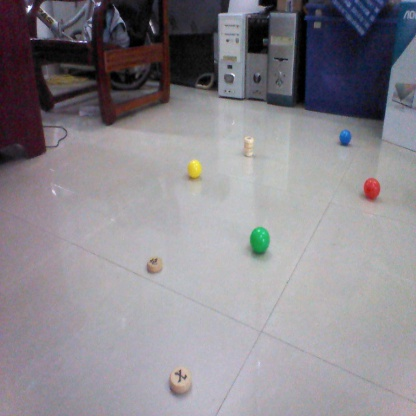ball: (247, 226, 276, 257), (357, 177, 382, 200), (186, 158, 206, 179), (336, 129, 355, 145)
chess: (170, 364, 196, 394), (240, 134, 258, 163), (145, 252, 163, 278)
